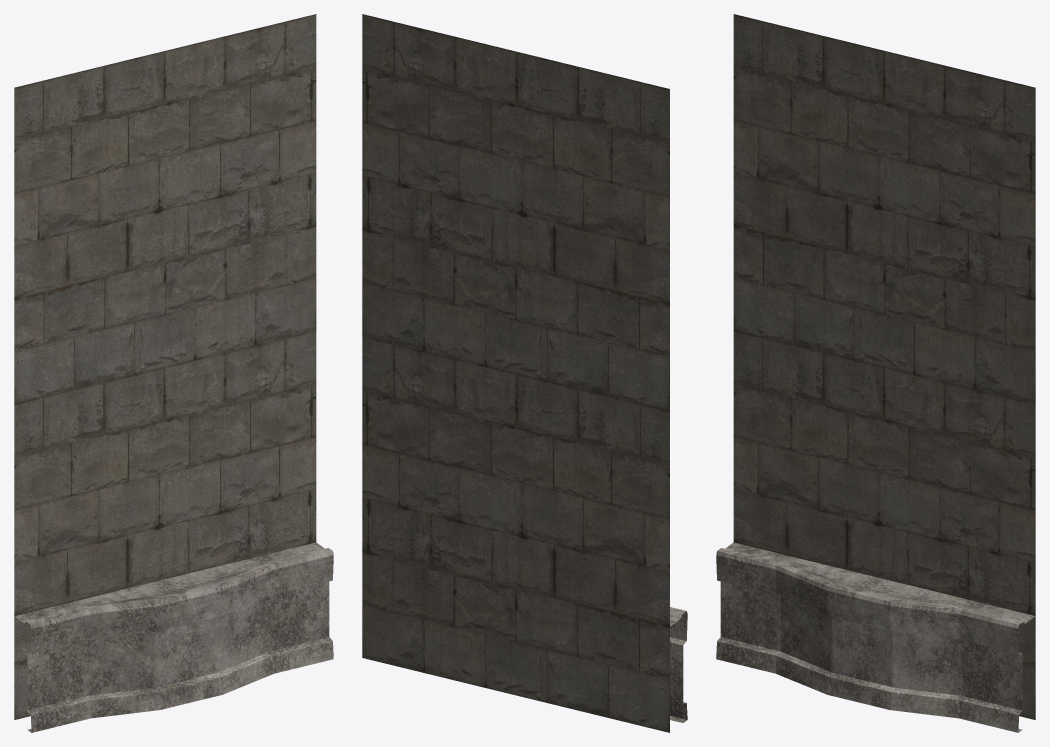
The model's file is SM_Wall_Stone_01.fbx.
3 renders of one model, left to right at view 1: azimuth 30°, elevation 25°; view 2: azimuth 150°, elevation 25°; view 3: azimuth 330°, elevation 25°, orthographic.
Visible parts, largest first — view 1: SM_Wall_Stone_01; view 2: SM_Wall_Stone_01; view 3: SM_Wall_Stone_01.
Part boxes in pixels (box(x1,y1,x2,y2)): SM_Wall_Stone_01: box(14, 14, 333, 732); SM_Wall_Stone_01: box(362, 14, 687, 732); SM_Wall_Stone_01: box(716, 14, 1035, 732).
Size of the model in its own units: 200 by 400 by 29.93.
Materials: 2 (2 with a texture image).
